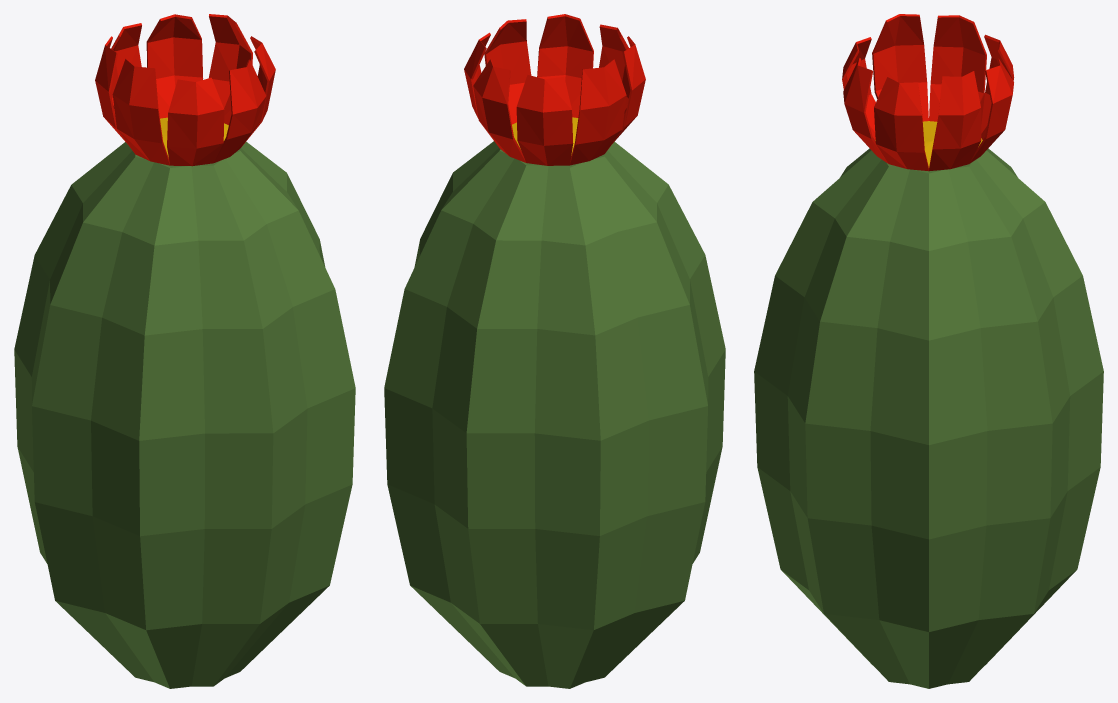
The model's file is Plant_15.fbx.
3 renders of one model, left to right at view 1: azimuth 30°, elevation 25°; view 2: azimuth 150°, elevation 25°; view 3: azimuth 270°, elevation 25°, orthographic.
Parts seen in each view (by area): view 1: Plant_15; view 2: Plant_15; view 3: Plant_15.
Boxes of the visible parts, <box> form: Plant_15: <box>14,14,355,688</box>; Plant_15: <box>384,14,725,688</box>; Plant_15: <box>754,14,1103,688</box>.
Bounding box in the file's own units: 0.5969 × 1.19 × 0.5969.
